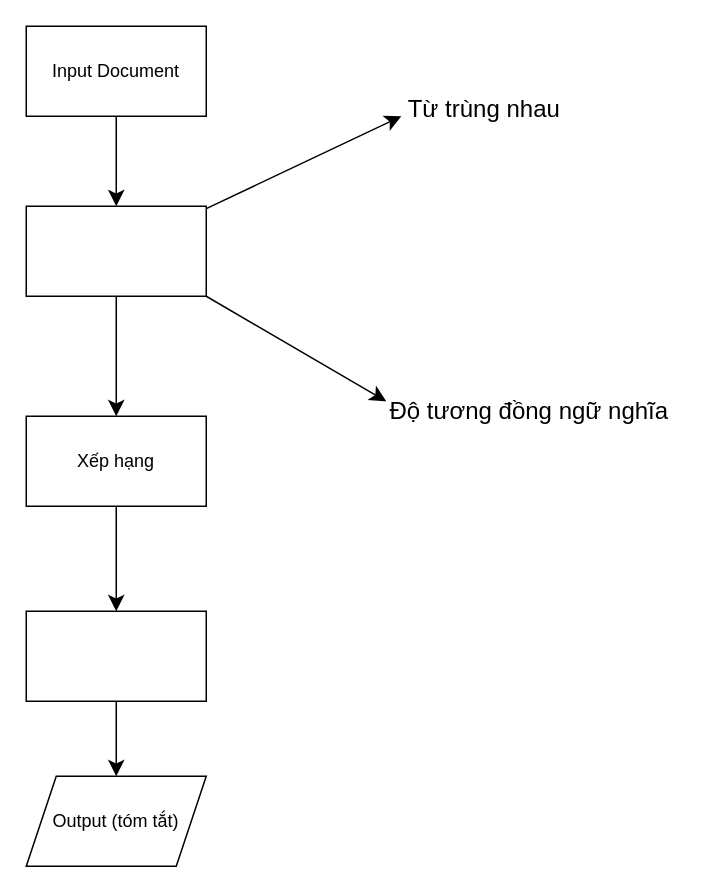
The diagram is 713 pixels wide and 893 high, and some of its shapes have lost their labels. Each missing label, with the box of its shape:
Biểu diễn văn bản thành đồ thị: (25, 205, 206, 296)
Lấy đỉnh trọng số cáo nhât: (25, 610, 206, 701)
